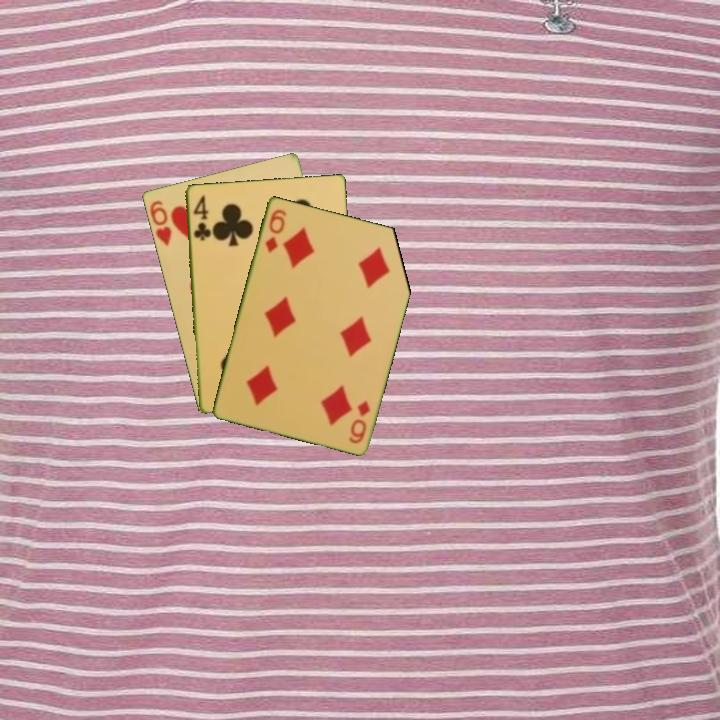4c: (189, 192, 213, 243)
6d: (261, 205, 289, 255), (345, 396, 373, 446)
6h: (146, 197, 174, 248)
